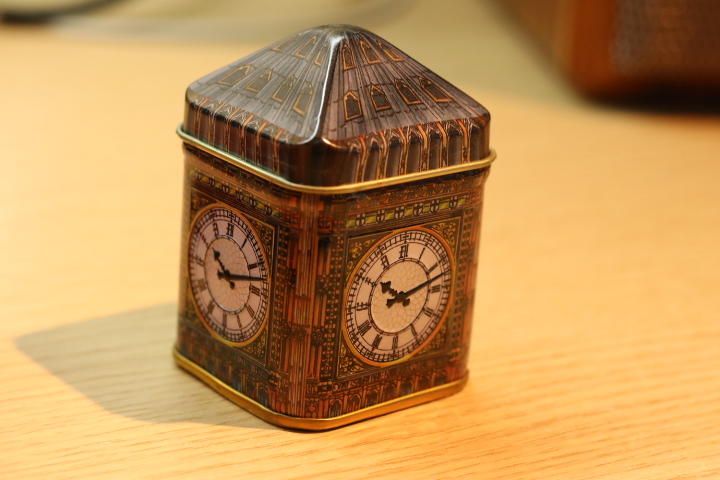Big Ben: (171, 19, 501, 438)
